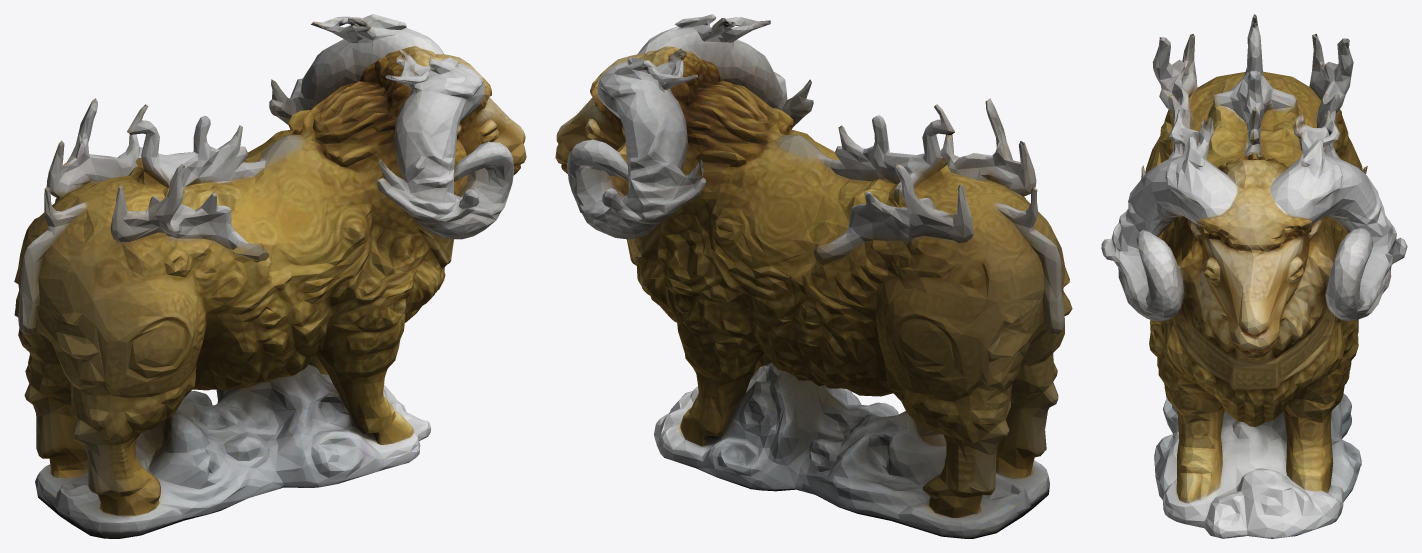
The model's file is emberlamb__ramOfColchis.glb.
The picture shows the model from 3 angles, left to right: view 1: azimuth 30°, elevation 25°; view 2: azimuth 150°, elevation 25°; view 3: azimuth 270°, elevation 25°; orthographic projection. The views are drawn at different scales.
Visible parts, largest first — view 1: world; view 2: world; view 3: world.
Part boxes in pixels (bbox=[...]): world: bbox=[14, 14, 526, 538]; world: bbox=[555, 14, 1072, 538]; world: bbox=[1101, 14, 1407, 538].
Size of the model in its own units: 1 by 0.7684 by 0.5135.
Materials: 1 (1 with a texture image).
